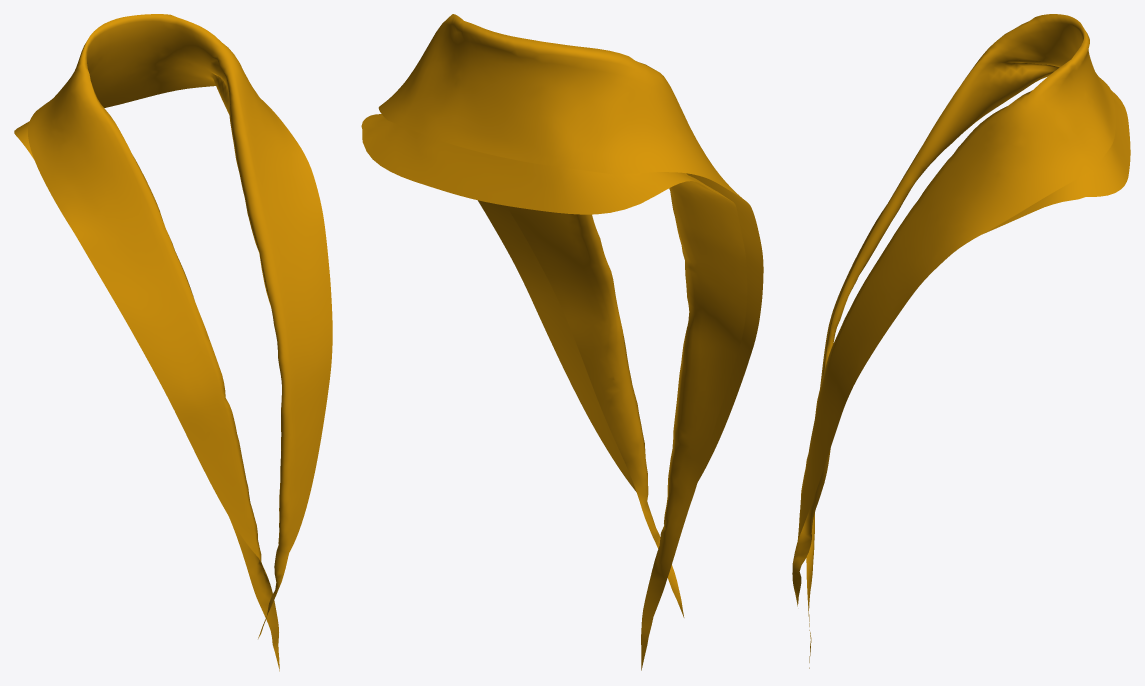
File: collar.glb
The picture shows the model from 3 angles, left to right: view 1: azimuth 30°, elevation 25°; view 2: azimuth 150°, elevation 25°; view 3: azimuth 270°, elevation 25°; orthographic projection. The views are drawn at different scales.
Visible parts, largest first — view 1: collar; view 2: collar; view 3: collar.
Part boxes in pixels (bbox=[...]): collar: bbox=[14, 14, 332, 671]; collar: bbox=[361, 14, 763, 670]; collar: bbox=[792, 14, 1130, 668].
Size of the model in its own units: 0.6359 by 1.42 by 0.6984.
